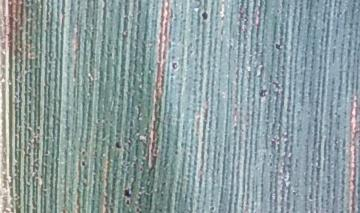tarspot: (200, 9, 210, 23), (122, 186, 133, 198), (258, 88, 268, 99), (113, 140, 122, 151), (170, 60, 178, 70), (273, 42, 282, 50), (124, 198, 132, 206), (208, 204, 216, 212), (173, 148, 180, 157), (80, 150, 87, 157), (135, 206, 142, 213), (80, 160, 86, 167)
